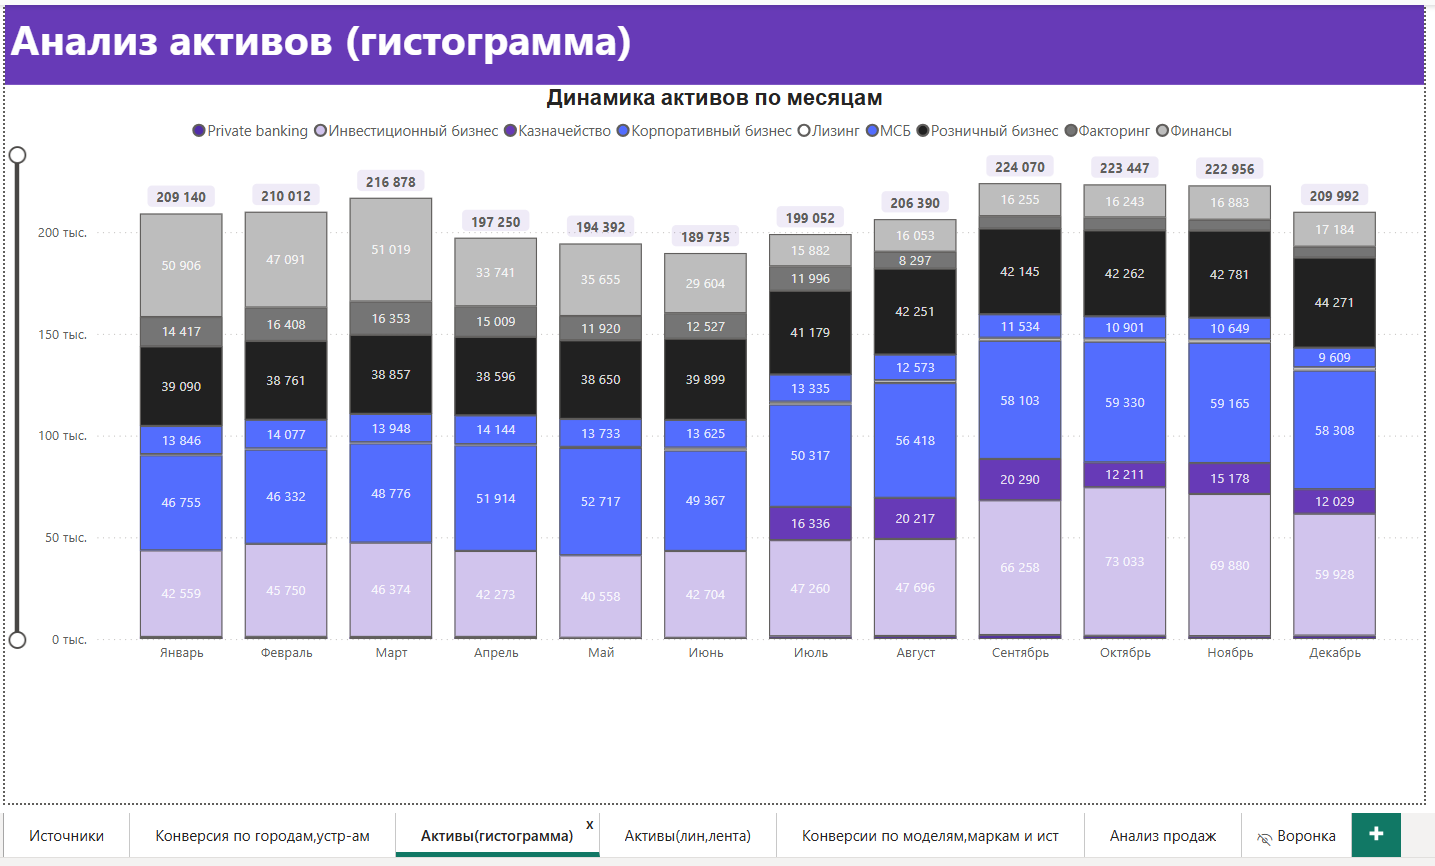

Layout of this report page (visuals, bound fields, positions):
{"tool":"powerbi","page":{"name":"Активы(гистограмма)","canvas":[1280,720],"ordinal":2},"visuals":[{"type":"columnChart","title":"Динамика активов по месяцам","fields":{"Y":["Sum(Динамика Активов.Активы)"],"Category":["Динамика Активов.Месяц Год.Изменение.Иерархия дат.Год","Динамика Активов.Месяц Год.Изменение.Иерархия дат.Квартал","Динамика Активов.Месяц Год.Изменение.Иерархия дат.Месяц","Динамика Активов.Месяц Год.Изменение.Иерархия дат.День"],"Series":["Динамика Активов.Бизнес-сегмент"]},"box":[0,72.1,1280.3,529.5],"z":0},{"type":"textbox","box":[0,0,1280.3,72.1],"z":1000}]}

Visuals, with their boxes on the page's 1280x720 design canvas (x1, y1, x2, y2). These are canvas units, not pixel positions in the 1435x866 screenshot, which may show the page scaled, cropped or inside an application window:
"Динамика активов по месяцам" columnChart: <region>0, 72, 1280, 602</region>
textbox: <region>0, 0, 1280, 72</region>
